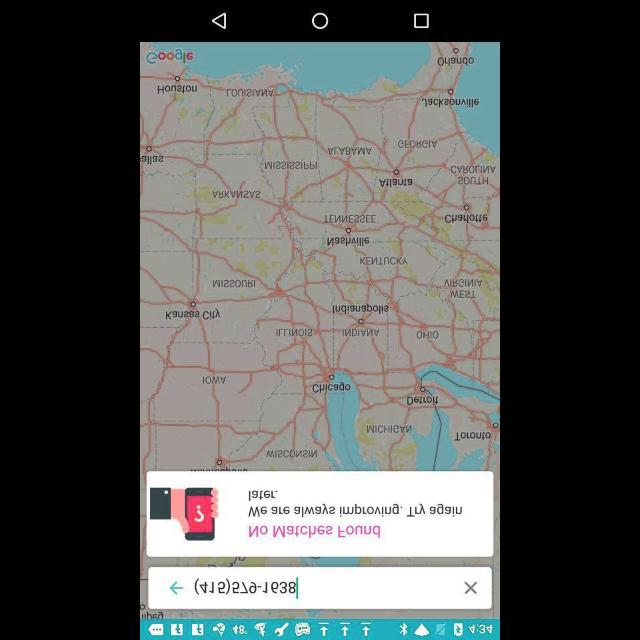icon: (195, 574, 298, 596), (311, 12, 329, 30), (168, 578, 184, 598), (413, 13, 429, 29), (464, 580, 478, 596), (212, 12, 226, 28)
image: (150, 486, 218, 542)
input: (148, 568, 492, 608)
map: (142, 41, 500, 471)
panel: (141, 1, 499, 41)
text: (248, 488, 464, 538)
uppertaskbar: (142, 620, 498, 640)
